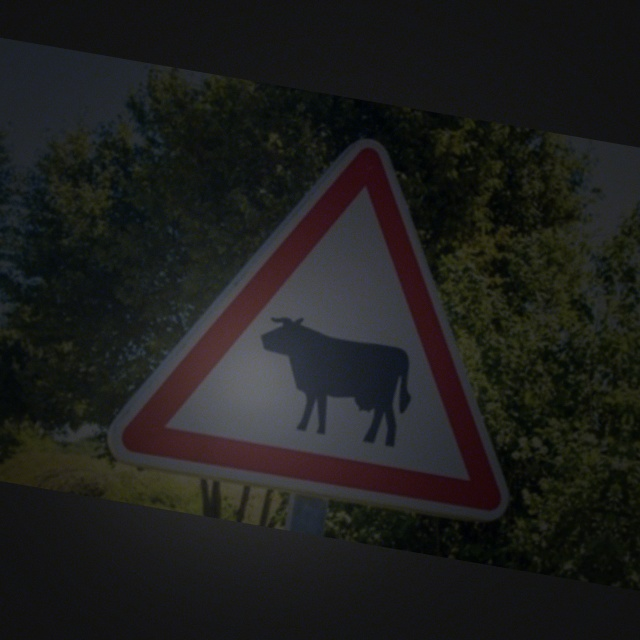Cattle: (123, 117, 574, 529)
